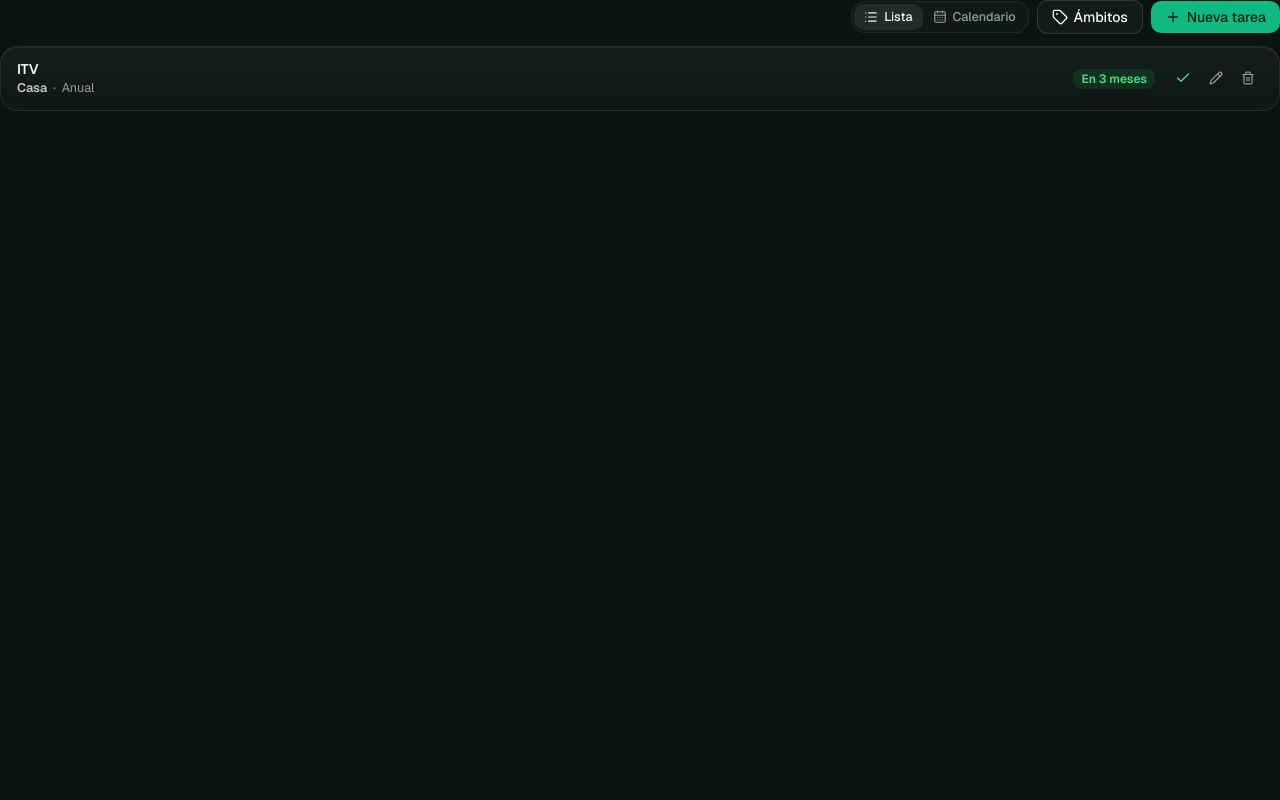
Test case: Modal de nueva tarea › los meses fuera de 1-120 se avisan aquí, sin ir al servidor
Click the button "Nueva tarea".
click(1215, 17)  # box x1=1151 y1=1 x2=1279 y2=33
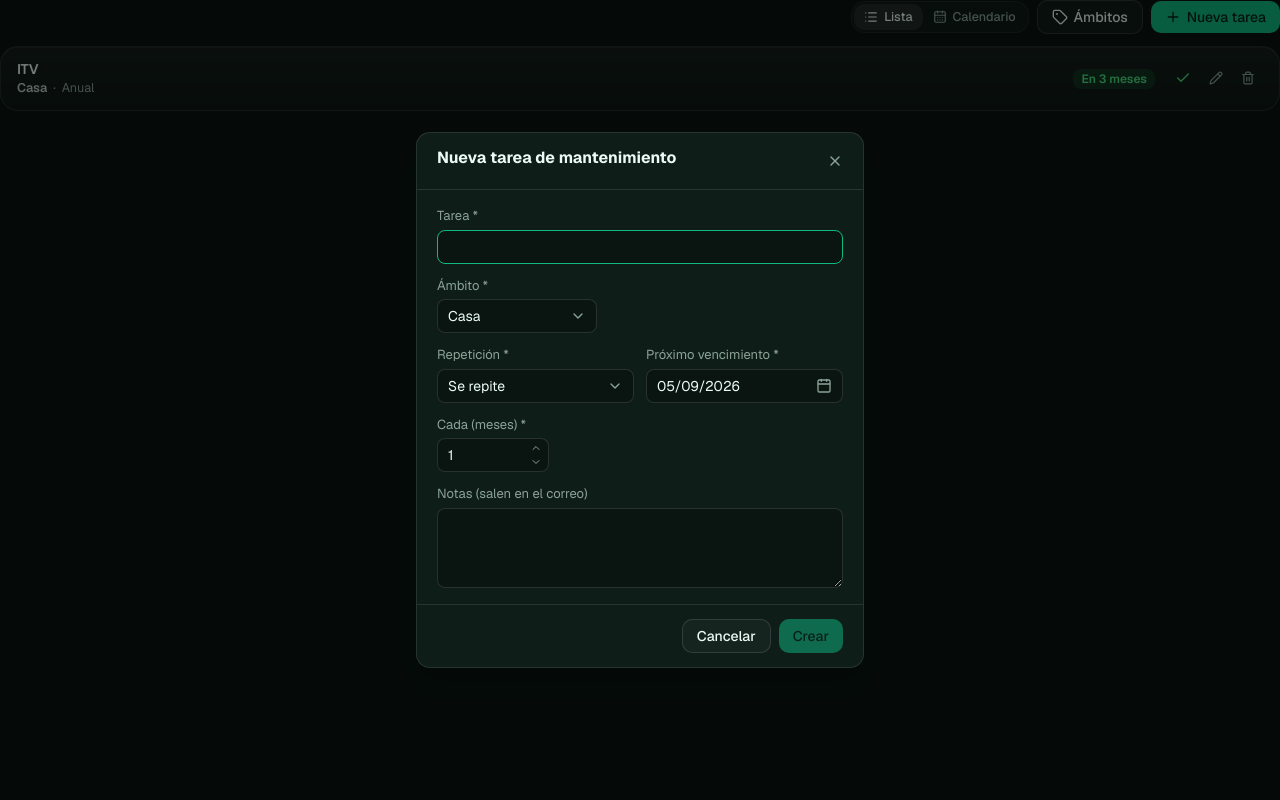
Type "ITV" into the field labelled "Tarea".
click(640, 247); type("ITV")  # box x1=437 y1=230 x2=843 y2=264
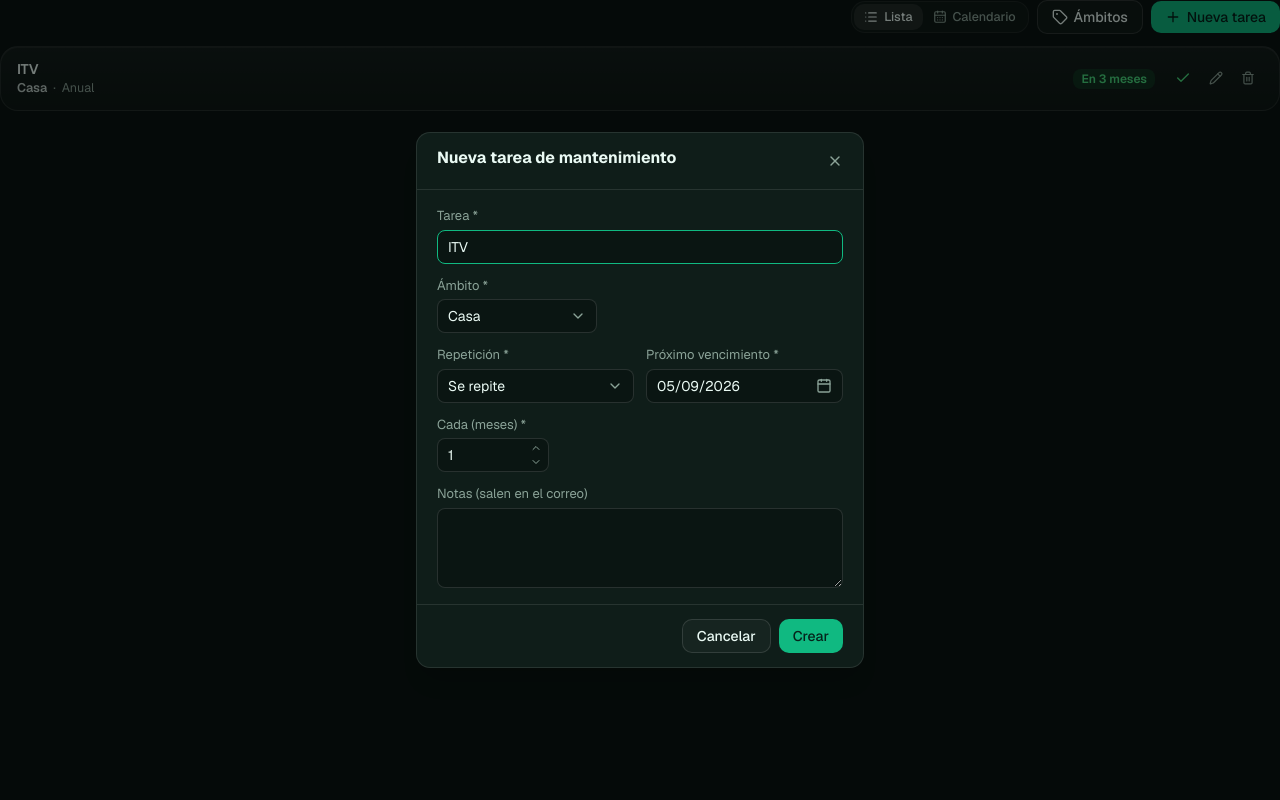
Replace the text in the field named "Periodicidad en meses" with "0" at (483, 455), box x1=438 y1=439 x2=528 y2=471
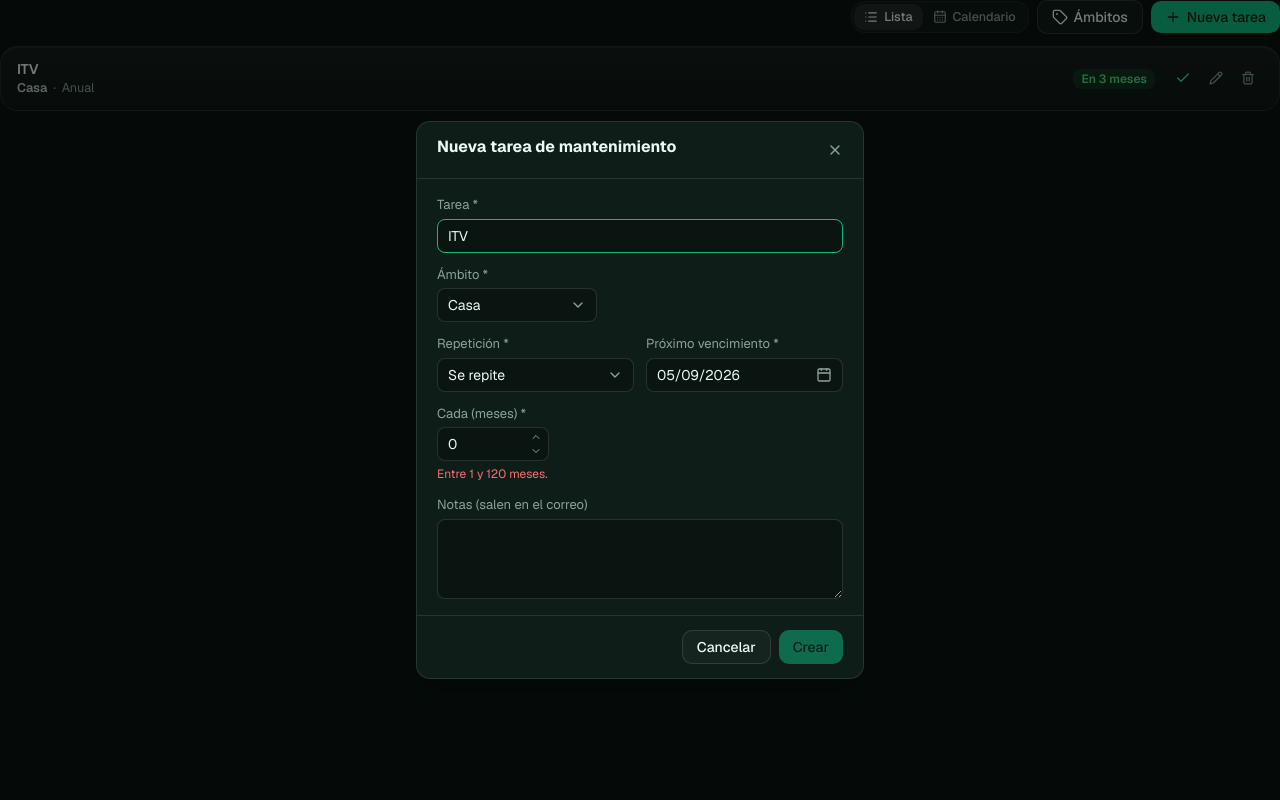
Result: the text "Entre 1 y 120 meses." is shown at x1=437 y1=466 x2=548 y2=482
Result: the button "Crear" is disabled at x1=779 y1=630 x2=843 y2=664
Replace the text in the field named "Periodicidad en meses" with "121" at (483, 444), box x1=438 y1=428 x2=528 y2=460
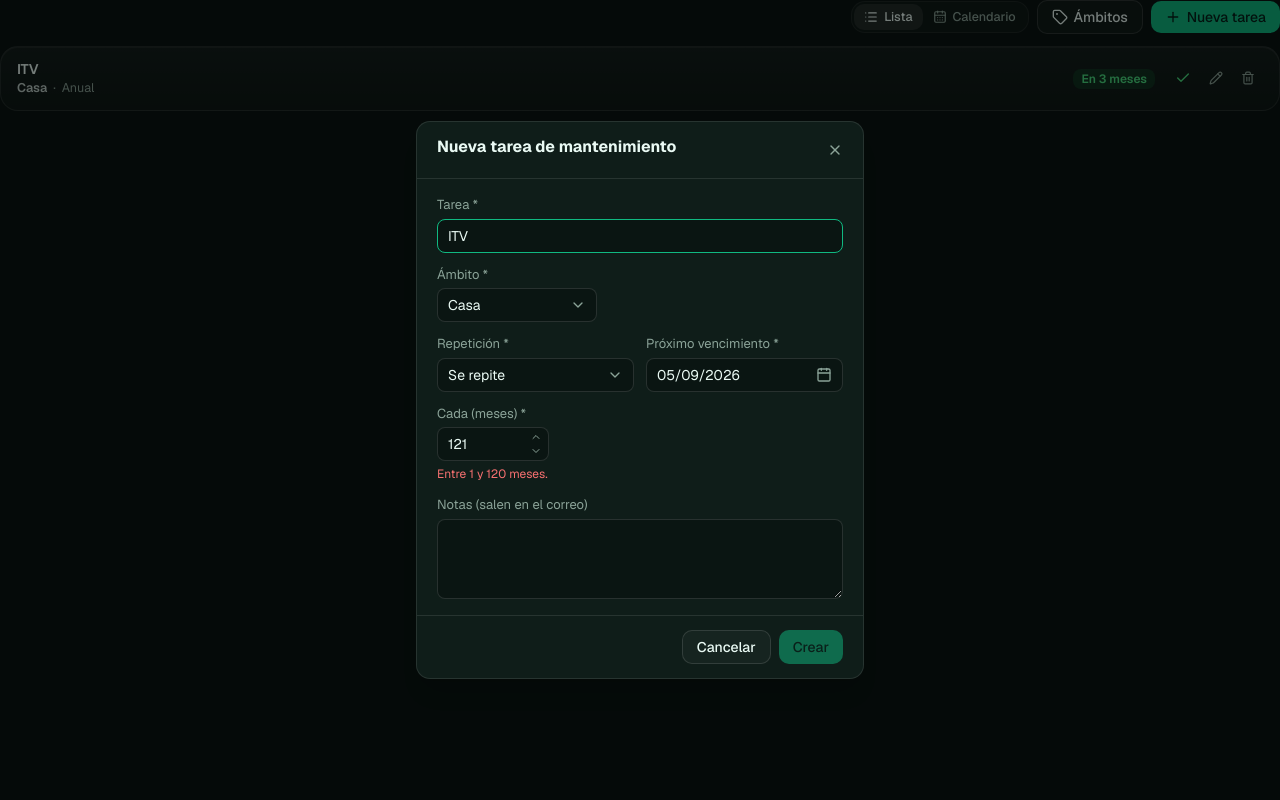
Result: the button "Crear" is disabled at x1=779 y1=630 x2=843 y2=664
Replace the text in the field named "Periodicidad en meses" with "120" at (483, 444), box x1=438 y1=428 x2=528 y2=460
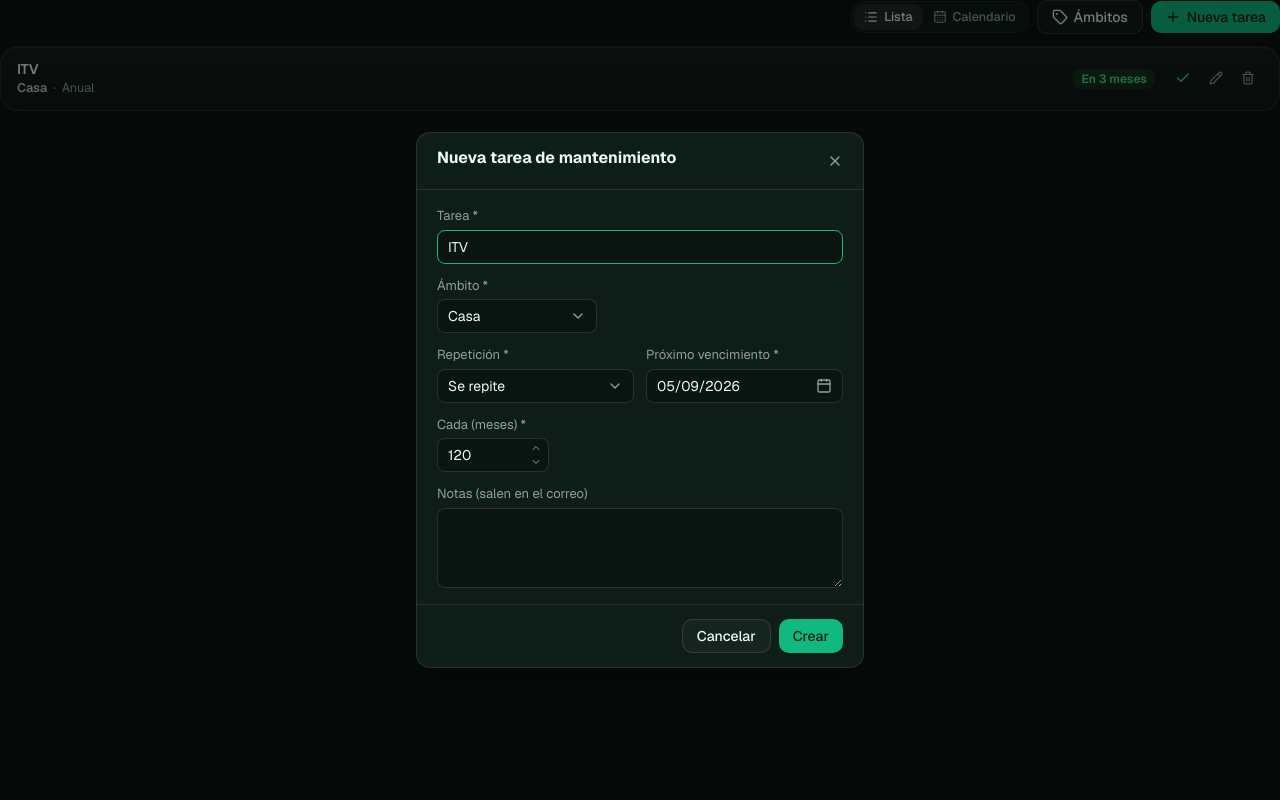
Result: the text "Entre 1 y 120 meses" is gone
Result: the button "Crear" is enabled at x1=779 y1=619 x2=843 y2=653
